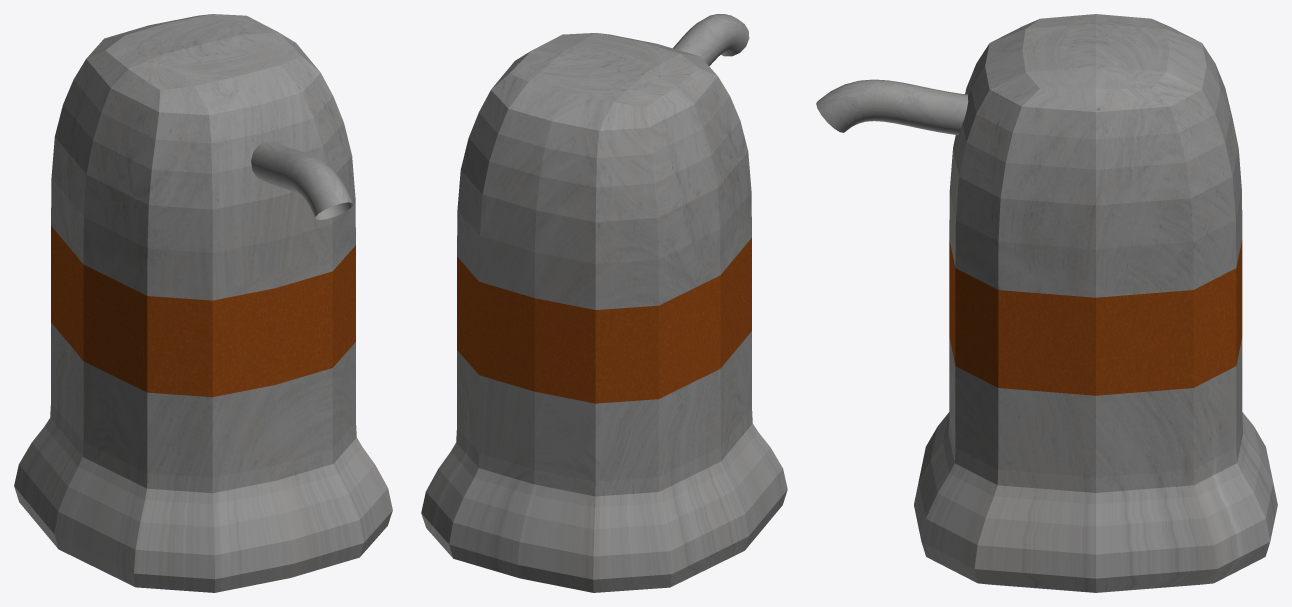
Rendered from cannister_for_plant_fuel_plant_room.fbx.
3 views of the same model, side by side, from view 1: azimuth 30°, elevation 25°; view 2: azimuth 150°, elevation 25°; view 3: azimuth 270°, elevation 25° (orthographic). The views are drawn at different scales.
Parts seen in each view (by area): view 1: Cube, Cube.001, BézierCurve; view 2: Cube, Cube.001, BézierCurve; view 3: Cube, Cube.001, BézierCurve.
Part boxes in pixels (x1,y1,x2,y2): Cube: (14, 14, 392, 592); Cube.001: (51, 226, 355, 397); BézierCurve: (251, 141, 352, 219); Cube: (421, 33, 787, 592); Cube.001: (457, 238, 751, 403); BézierCurve: (673, 14, 749, 66); Cube: (914, 14, 1277, 592); Cube.001: (949, 239, 1242, 395); BézierCurve: (816, 79, 968, 135).
Size of the model in its own units: 238 by 365 by 315.
Materials: 2 (2 with a texture image).
